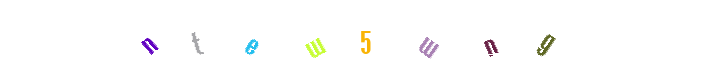5: (325, 0, 405, 80)
E: (281, 0, 361, 80)
G: (505, 0, 585, 80)
N: (109, 0, 189, 80), (450, 0, 530, 80)
T: (211, 0, 291, 80)
W: (319, 0, 399, 80), (332, 0, 412, 80)
